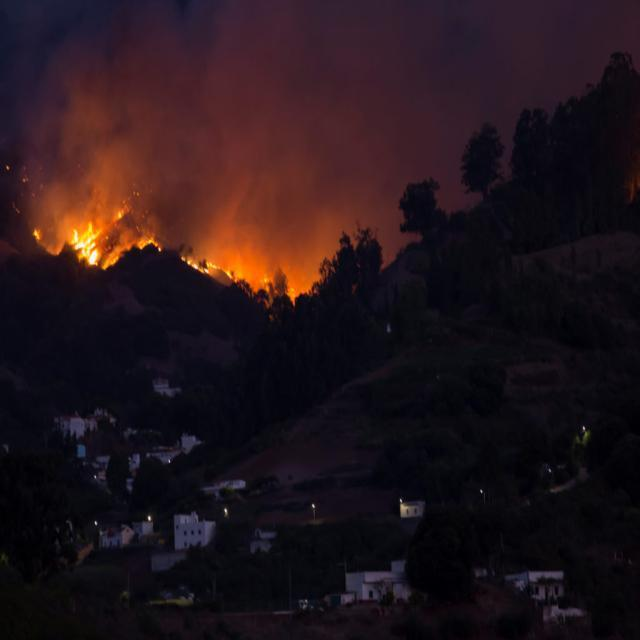Smoke: (17, 0, 640, 291)
